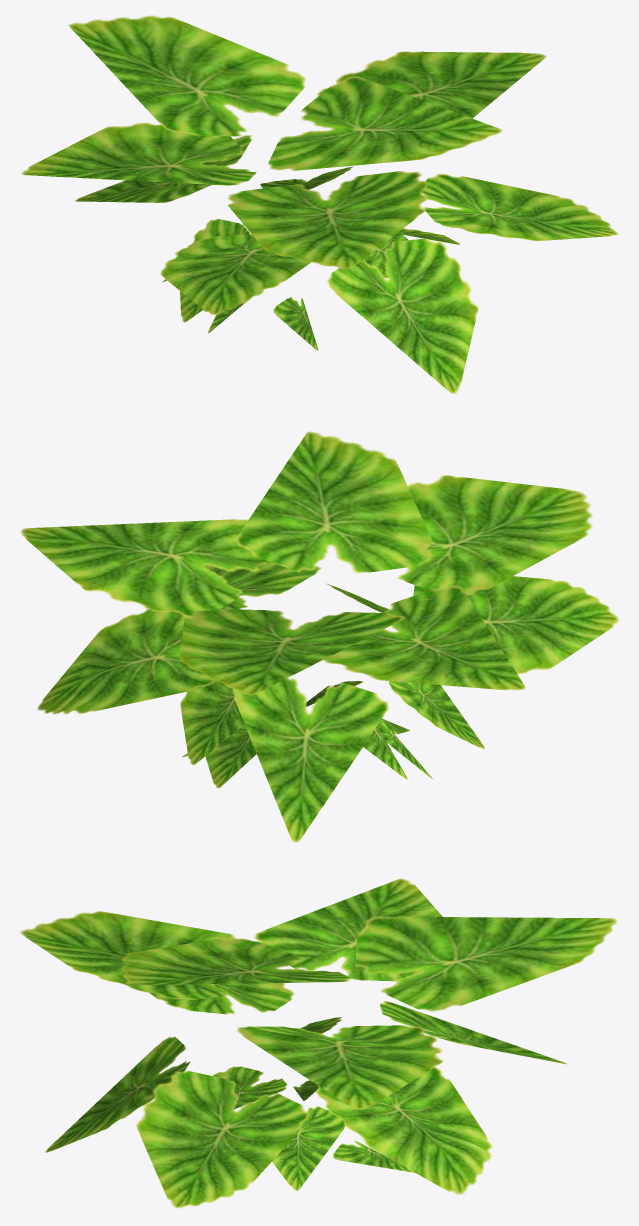
Rendered from elephant-ear.lod1.glb.
The picture shows the model from 3 angles, top to bottom: view 1: azimuth 30°, elevation 25°; view 2: azimuth 150°, elevation 25°; view 3: azimuth 270°, elevation 25°; orthographic projection. The views are drawn at different scales.
Parts seen in each view (by area): view 1: Object_2; view 2: Object_2; view 3: Object_2.
Part boxes in pixels (bbox=[...]): Object_2: bbox=[21, 15, 618, 393]; Object_2: bbox=[20, 431, 618, 842]; Object_2: bbox=[20, 878, 617, 1208].
Size of the model in its own units: 3.94 by 1.69 by 4.07.
Materials: 1 (1 with a texture image).
